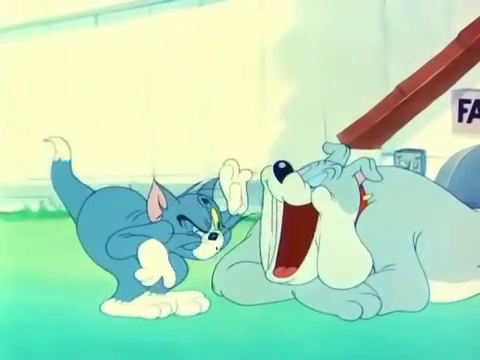spike: (258, 141, 382, 291)
tom: (145, 175, 237, 263)
